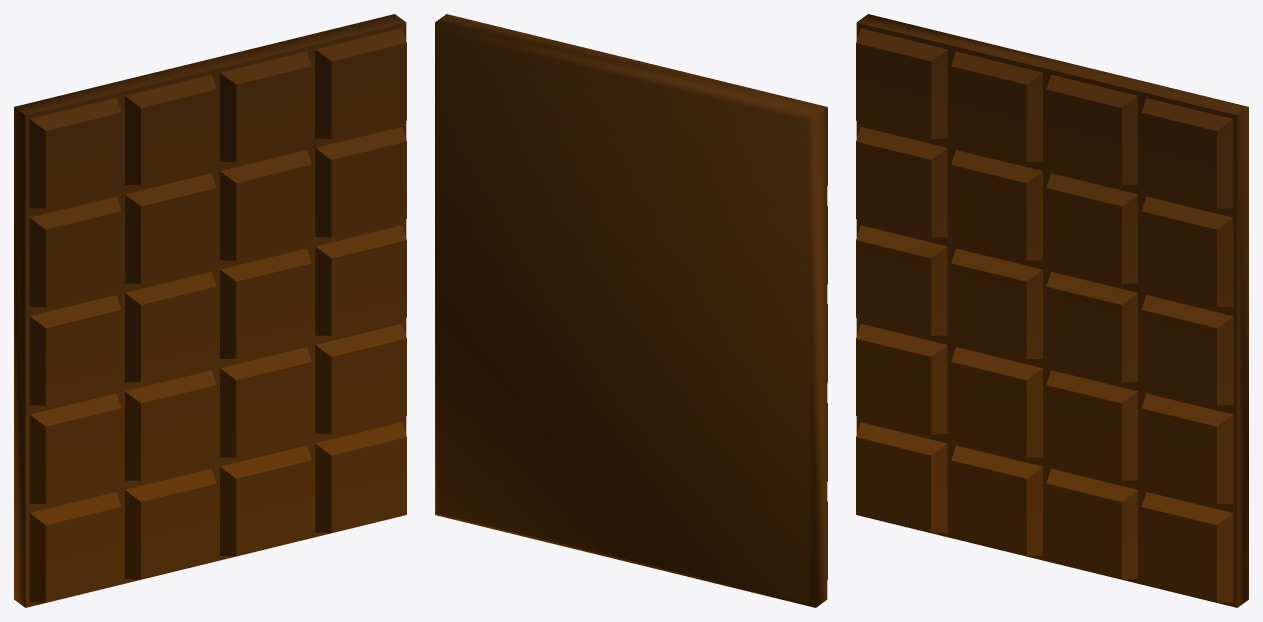
Rendered from Chocolate_1.fbx.
3 views of the same model, side by side, from view 1: azimuth 30°, elevation 25°; view 2: azimuth 150°, elevation 25°; view 3: azimuth 330°, elevation 25° (orthographic).
Parts seen in each view (by area): view 1: Chocolate_1; view 2: Chocolate_1; view 3: Chocolate_1.
Part boxes in pixels (x1,y1,x2,y2): Chocolate_1: (14,14,406,607); Chocolate_1: (435,14,827,607); Chocolate_1: (856,14,1248,607).
Size of the model in its own units: 0.087 by 0.1075 by 0.00986.
Materials: 1 (1 with a texture image).
